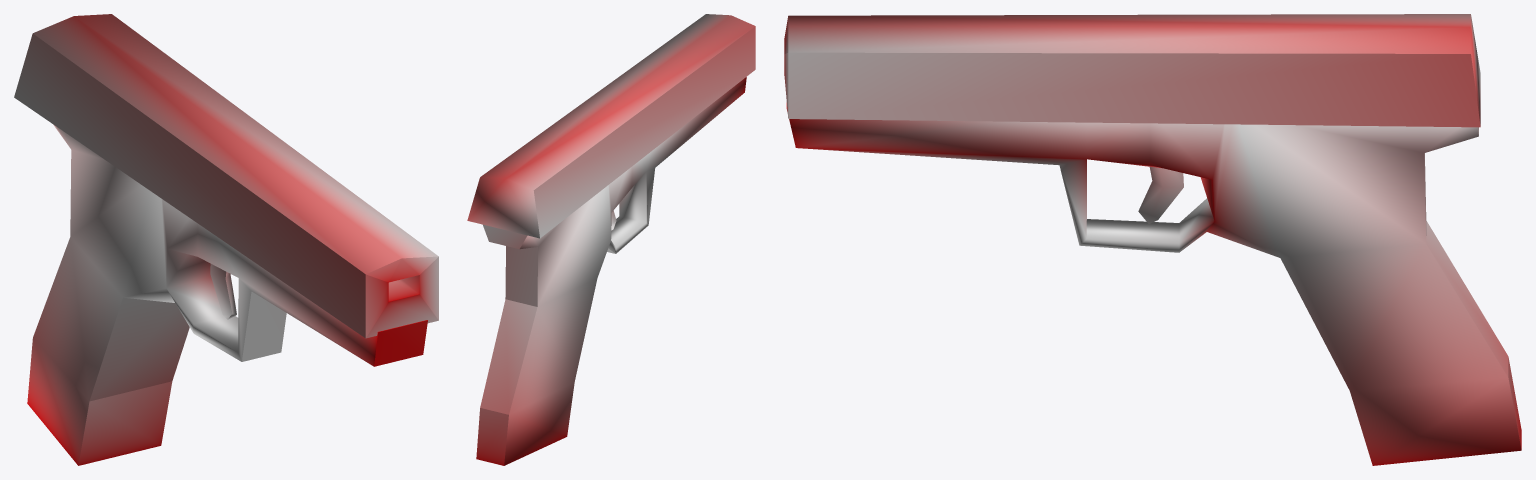
Rendered from PS1_Pistol.fbx.
3 views of the same model, side by side, from view 1: azimuth 30°, elevation 25°; view 2: azimuth 150°, elevation 25°; view 3: azimuth 270°, elevation 25° (orthographic). The views are drawn at different scales.
Visible parts, largest first — view 1: Pistol; view 2: Pistol; view 3: Pistol.
Part boxes in pixels (<box>): Pistol: <box>14,14,438,465</box>; Pistol: <box>467,14,755,465</box>; Pistol: <box>784,14,1521,465</box>.
Size of the model in its own units: 11.49 by 41.43 by 66.14.
